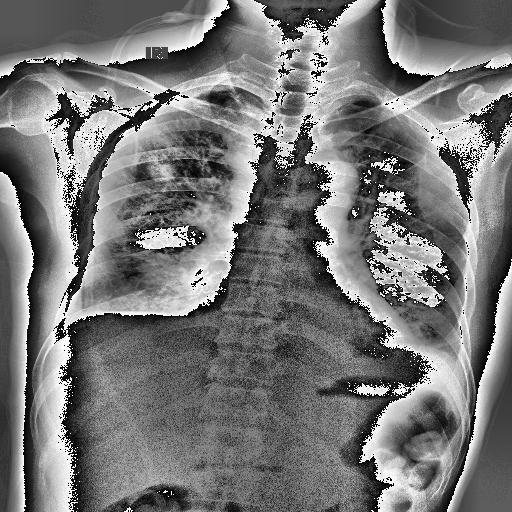0- Aortic enlargement: (295, 162, 356, 224), (309, 156, 359, 207)
10- Pleural effusion: (50, 294, 86, 348), (432, 337, 470, 374)
11- Pleural thickening: (150, 81, 234, 110), (156, 82, 236, 108), (50, 294, 86, 348), (156, 85, 240, 103), (432, 337, 470, 374)
13- Pulmonary fibrosis: (131, 104, 221, 184)
4- Consolidation: (144, 154, 185, 182)
6- Infiltration: (134, 128, 220, 220), (126, 260, 212, 316), (132, 257, 208, 312)
7- Lung Opacity: (100, 251, 232, 316), (132, 257, 208, 312), (148, 160, 176, 182)
8- Nodule-Mass: (144, 154, 185, 182), (146, 160, 180, 180), (148, 160, 176, 182)
